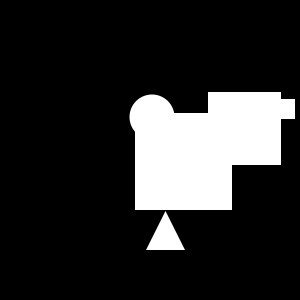circle: (135, 113, 232, 210), (208, 92, 281, 165), (275, 99, 295, 119)
rectangle: (130, 94, 174, 140)
triangle: (146, 211, 185, 250)
